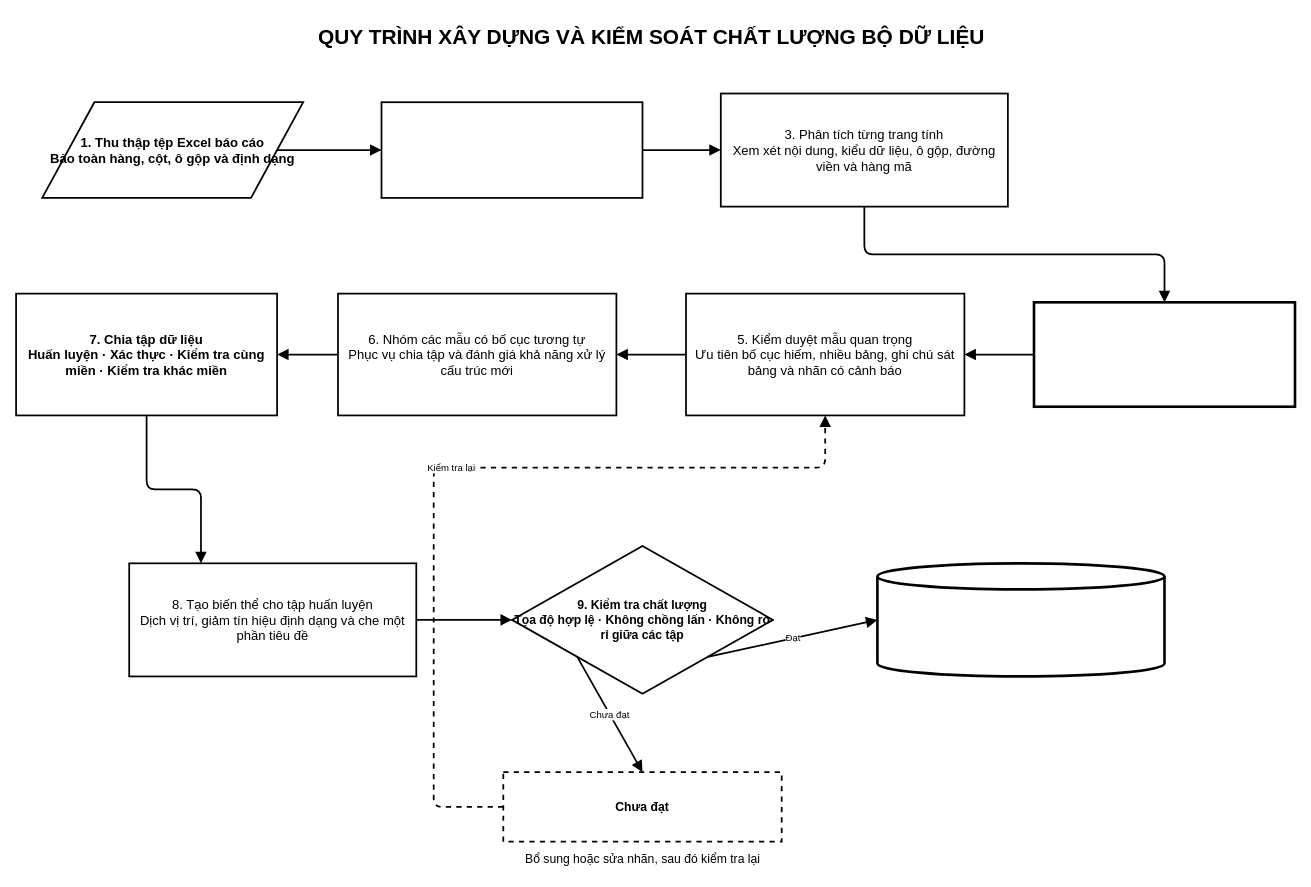
The diagram is 1311 pixels wide and 887 high, and some of its shapes have lost their labels. The centre of each missing label's shape, as x and y in pixels:
"10. Bộ dữ liệu sẵn sàng huấn luyện Kèm thống kê, cảnh báo và thông tin truy vết" belongs at (1020,619).
"2. Kiểm tra tệp và loại bản sao Giữ một bản đại diện cho các tệp giống nhau" belongs at (511,149).
"4. Gán nhãn vùng bảng Xác định ranh giới bảng và hàng cuối của phần tiêu đề" belongs at (1164,354).
